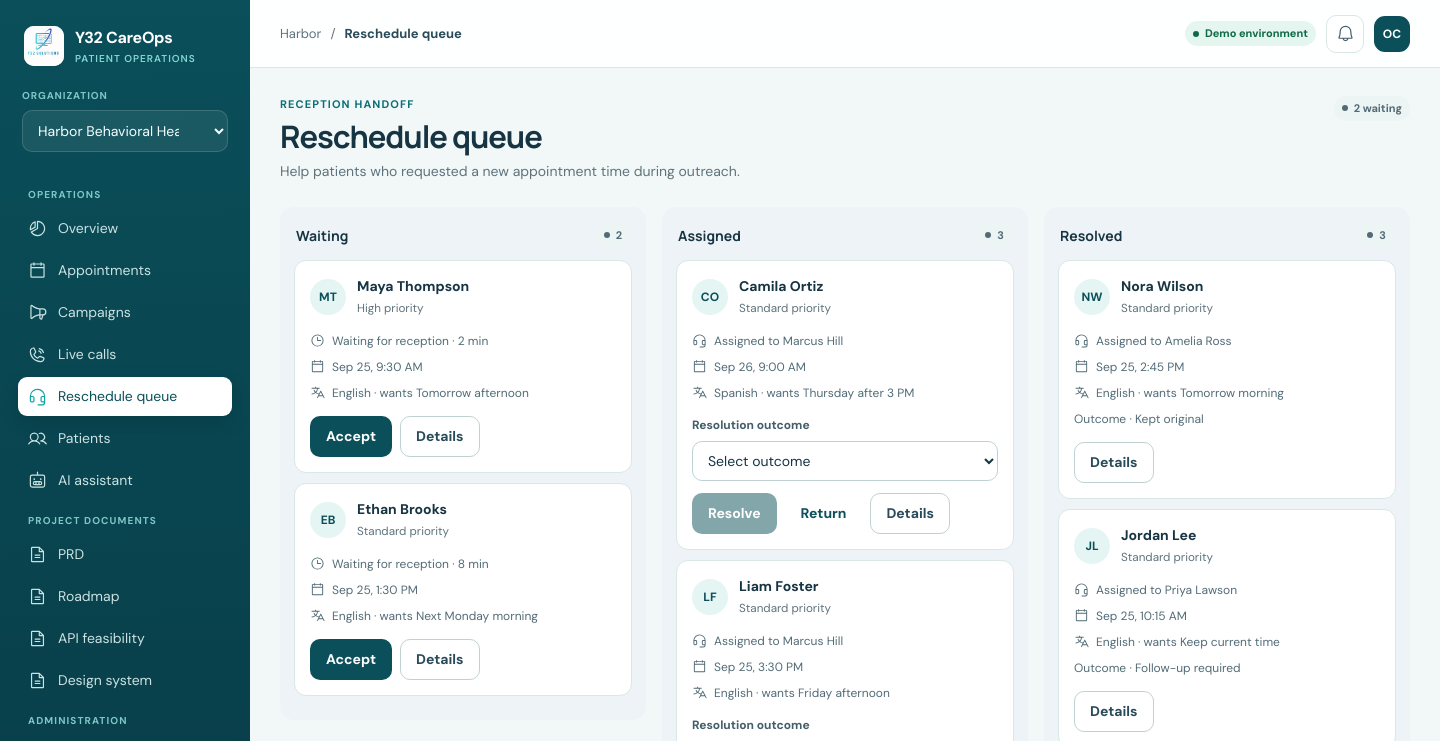
it: ReschedulePage › assigns Northstar requests to the Northstar operations manager
Select "Northstar Family Care" in the dropdown labelled "Organization": (125, 131) [22, 110, 228, 152]
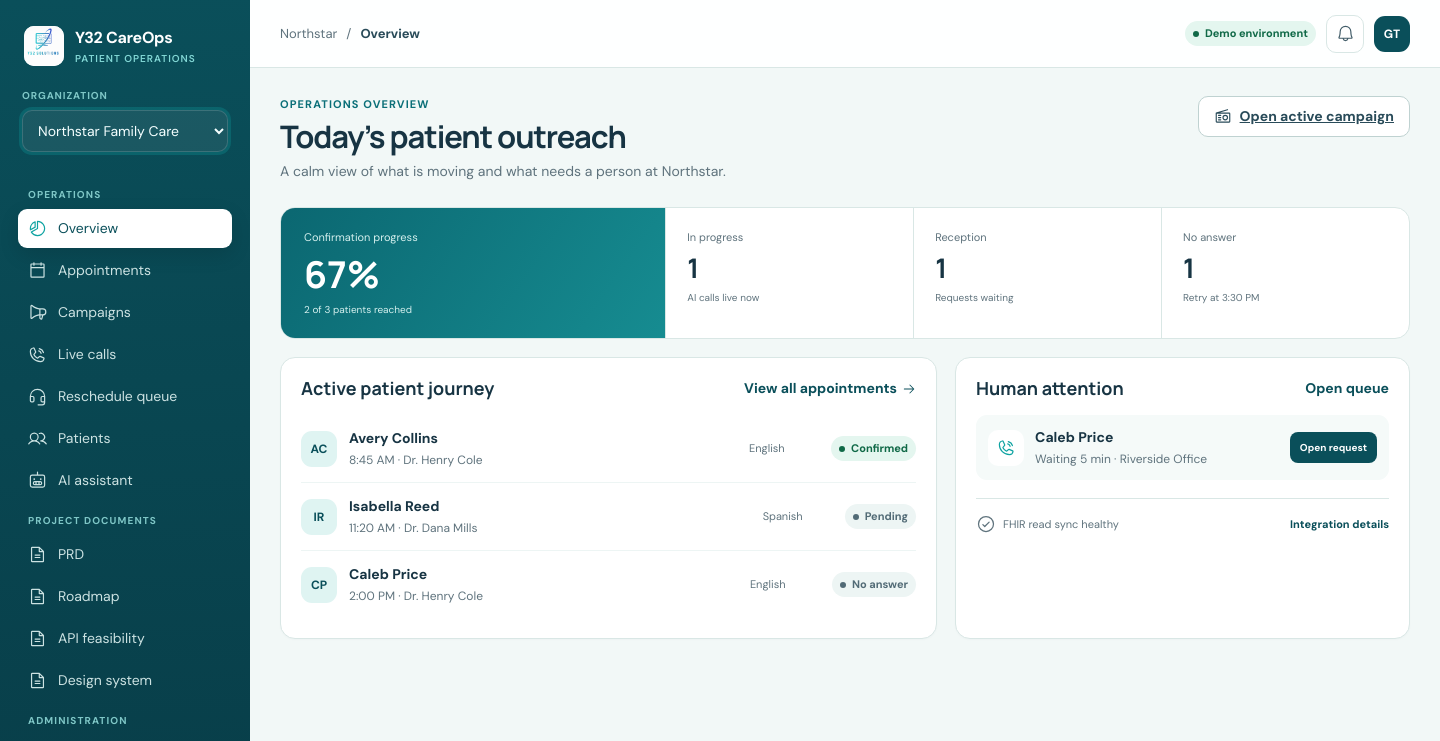
Click the link "Reschedule queue": (103, 396) [28, 387, 177, 406]
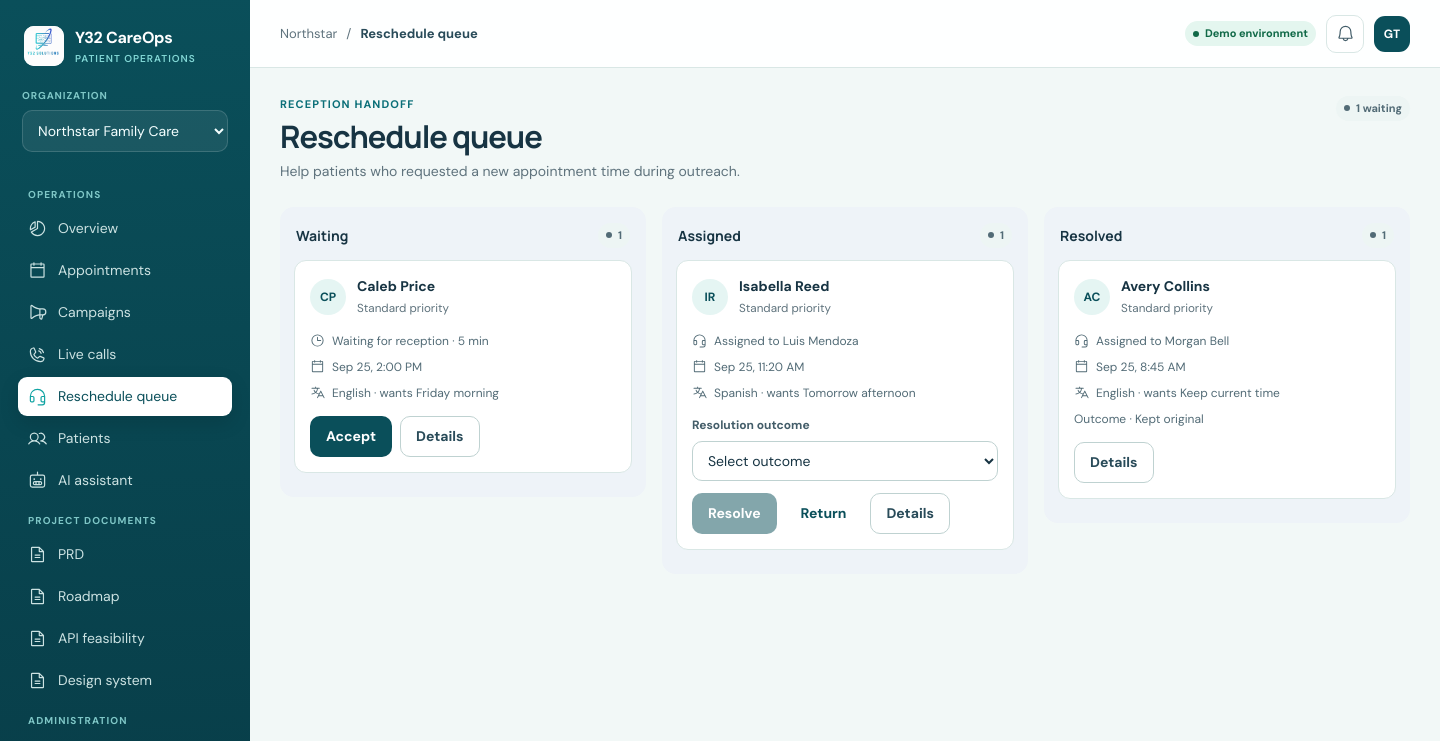
Click the button with aria-label "Accept Caleb Price": (351, 436) [310, 416, 392, 457]
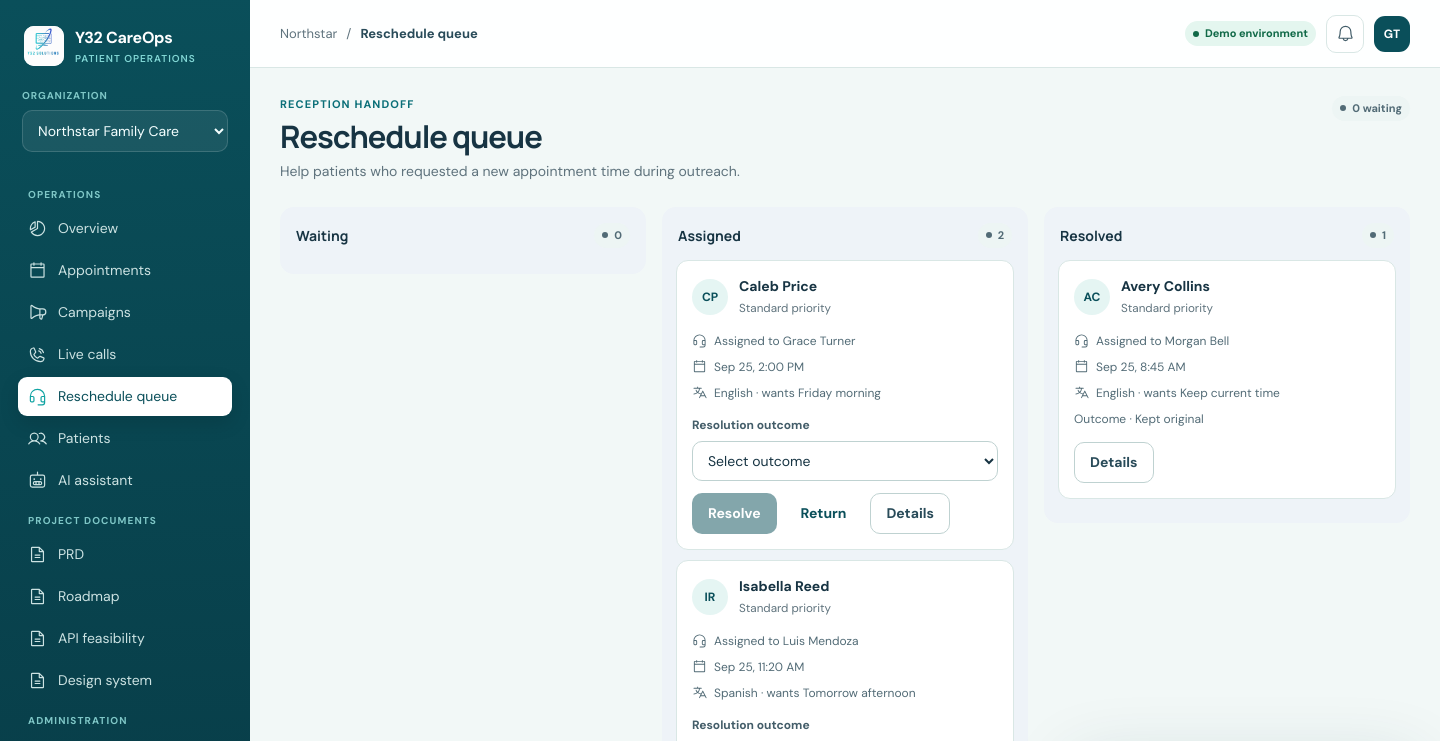
Check: the text "Assigned to Grace Turner" is shown, box [692, 333, 855, 349]
